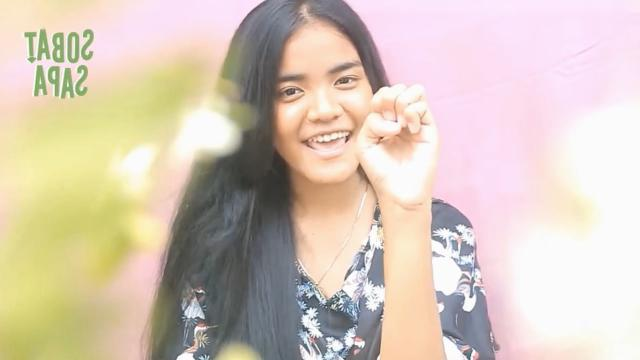E: (355, 81, 441, 211)
